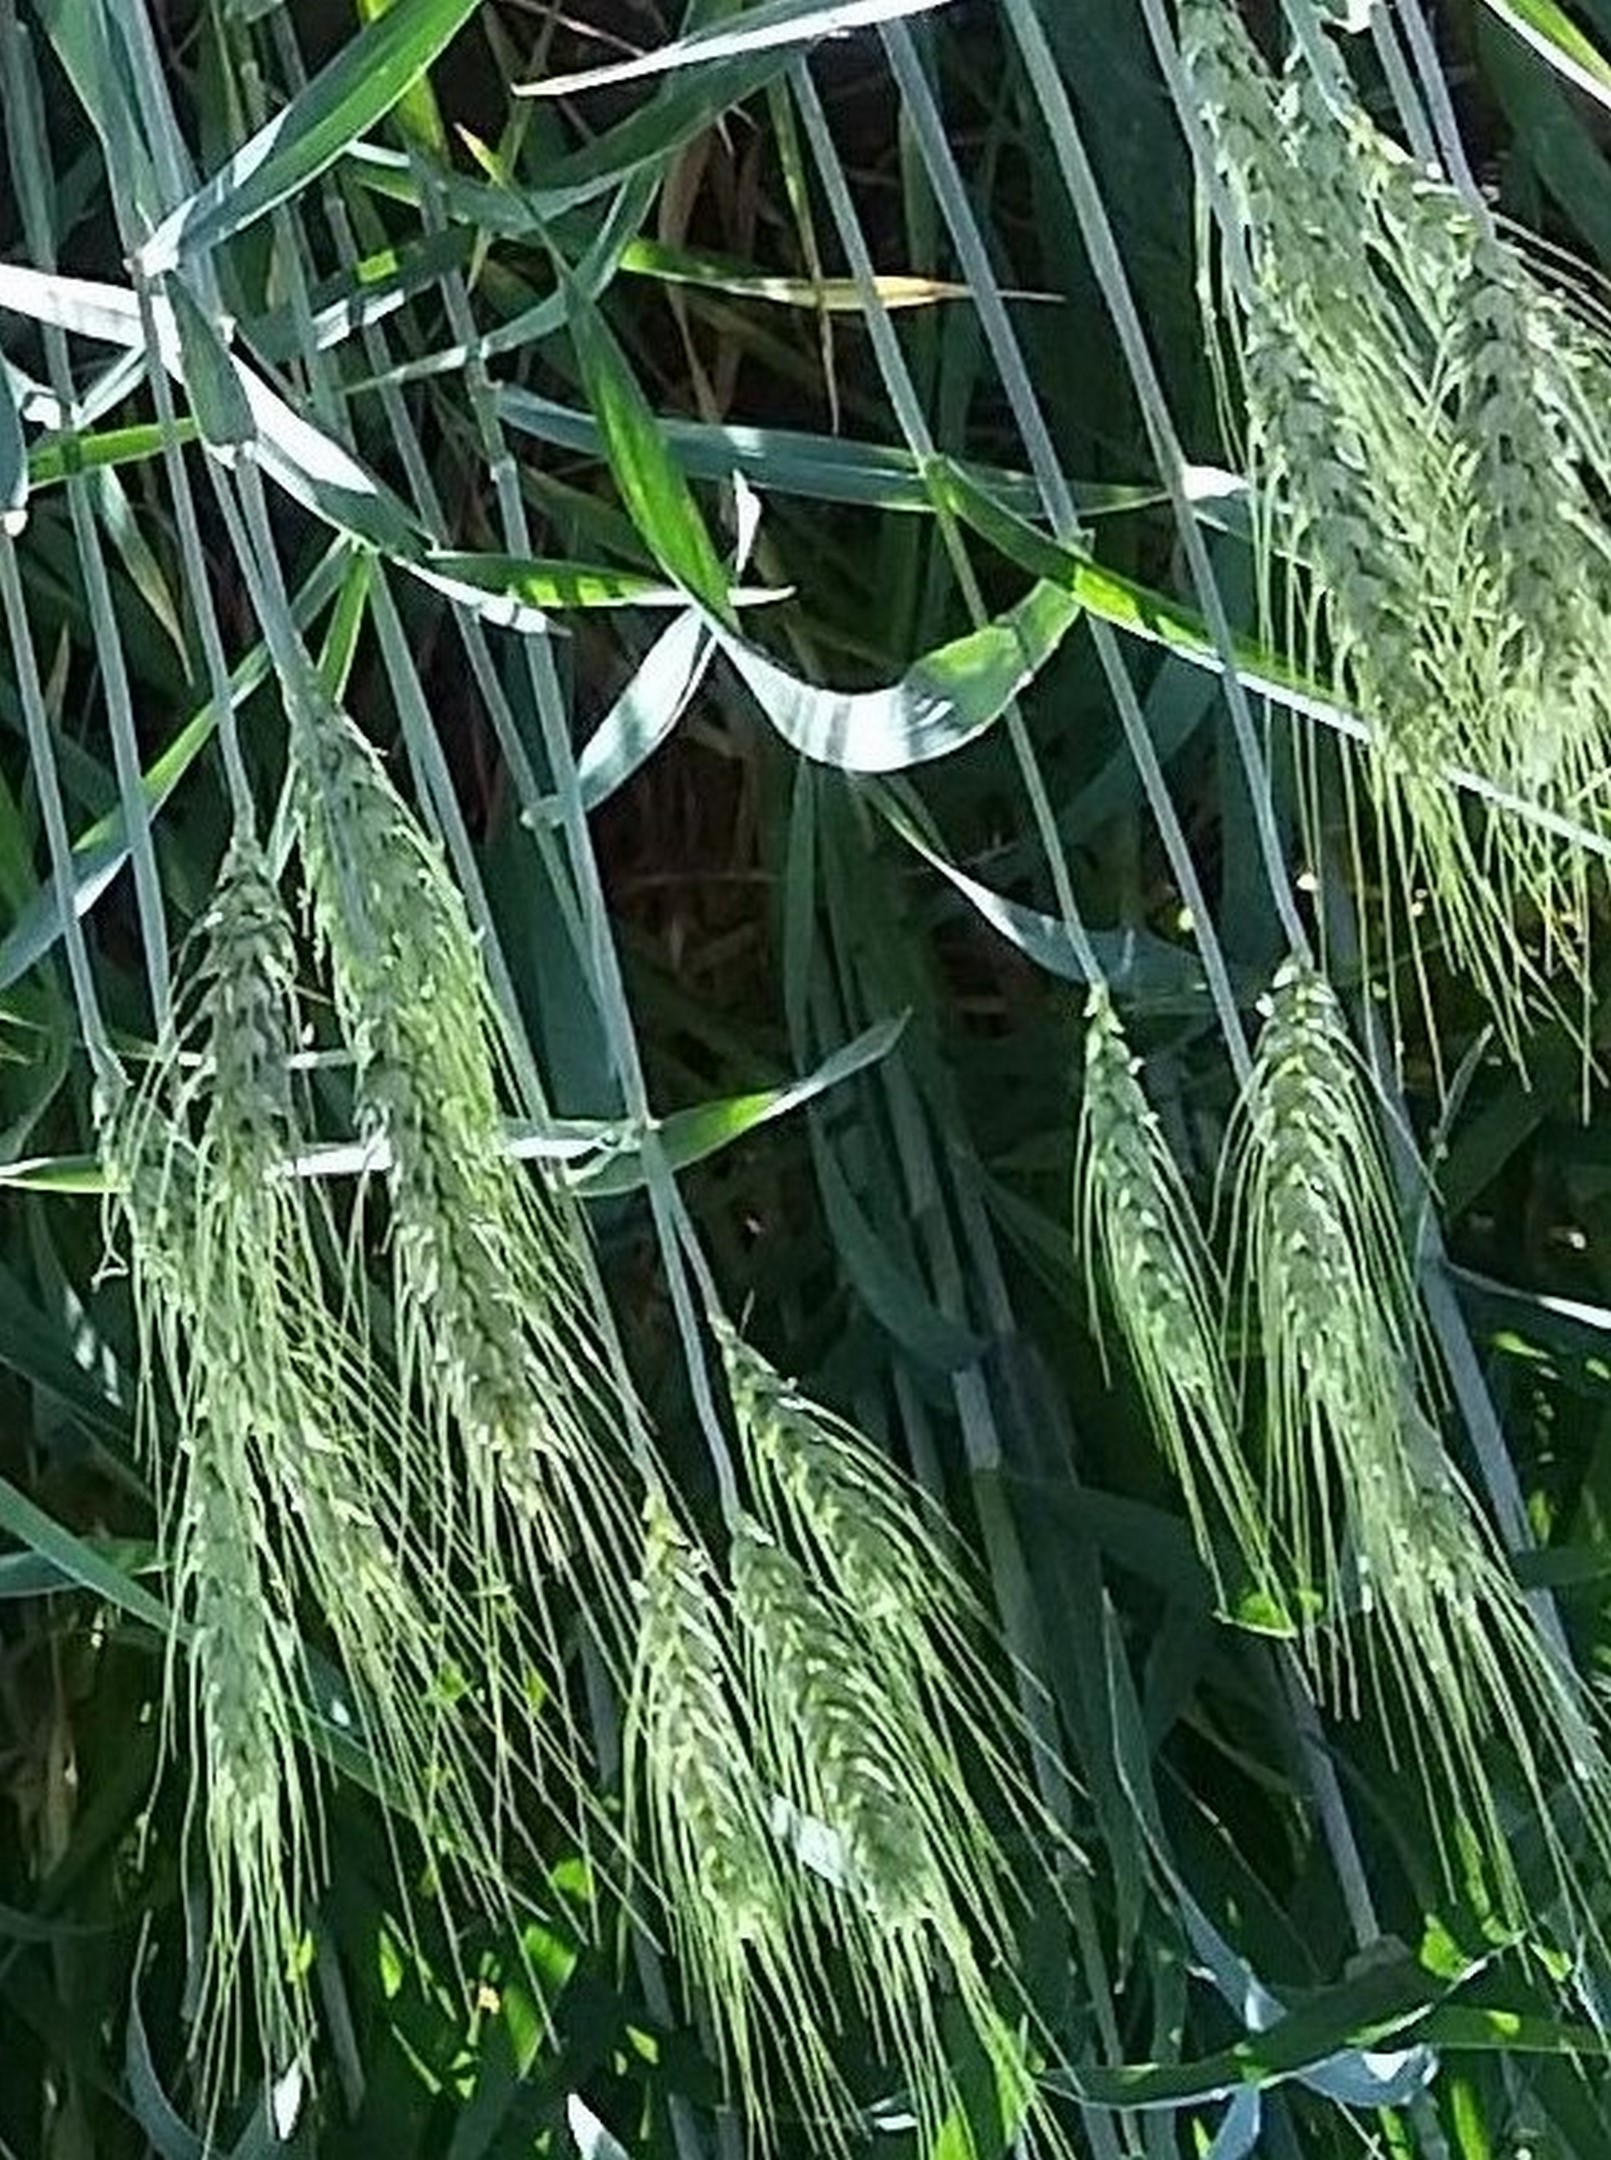Healthy Wheat: (624, 1306, 983, 1996), (1064, 954, 1477, 1477)
